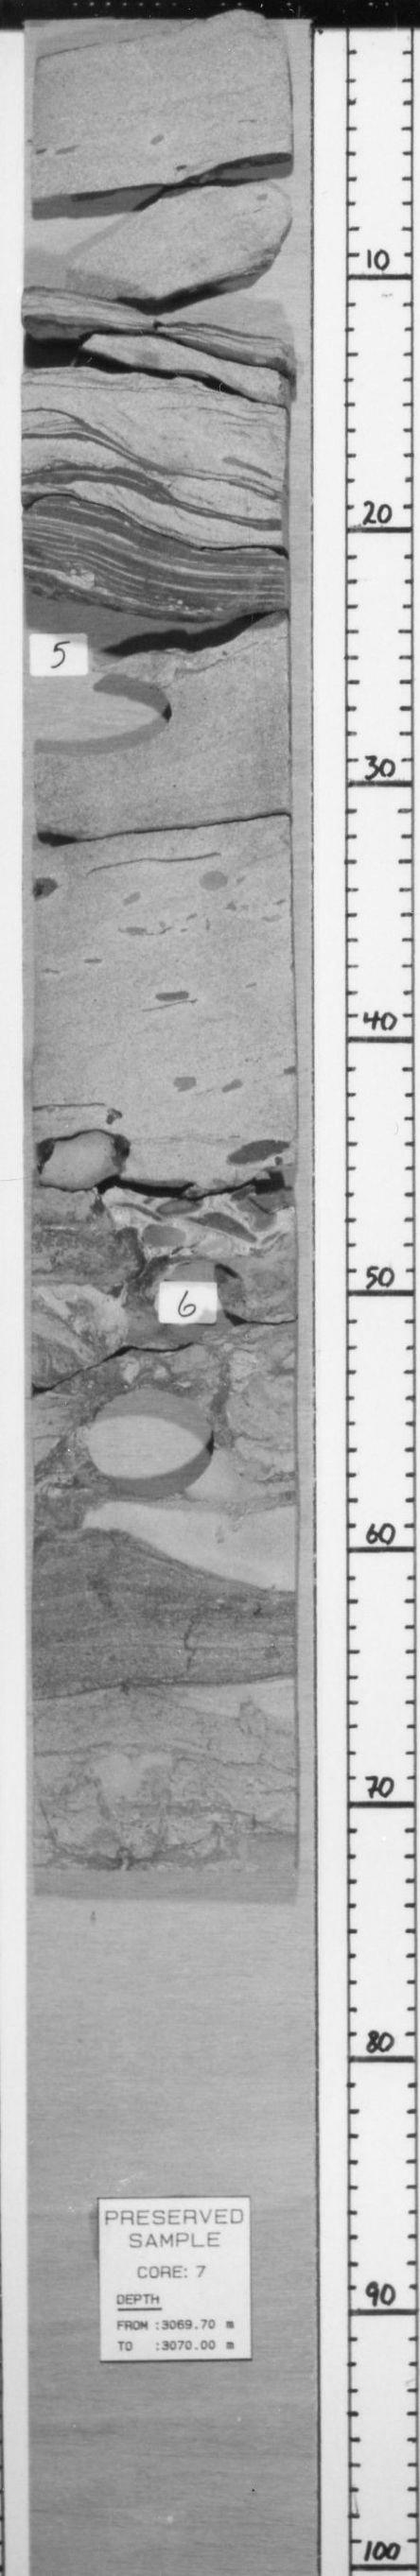hplug: (30, 660, 180, 772), (119, 1244, 257, 1357)
scal: (79, 1380, 221, 1505)
